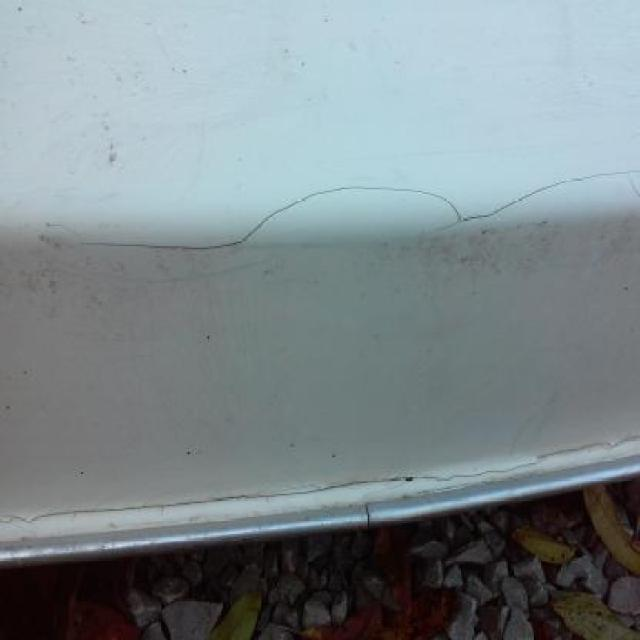crack: (0, 432, 640, 529), (73, 167, 640, 255)
